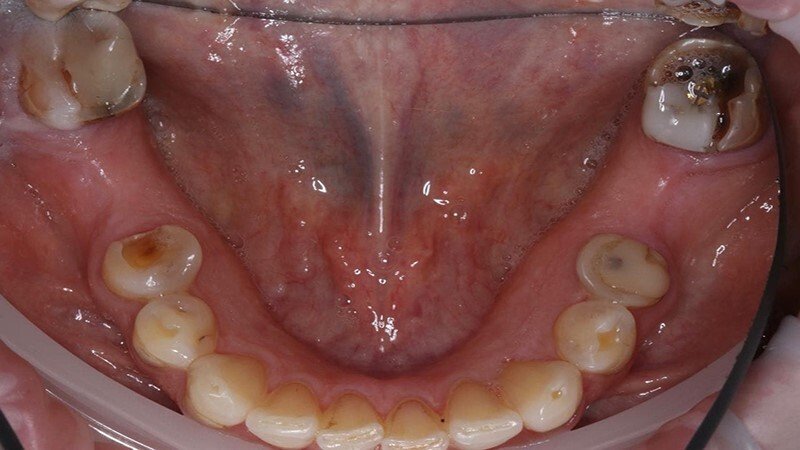LL1BC_decay: (554, 305, 639, 374)
LL2BC_decay: (574, 233, 673, 310)
LL2M_decay: (638, 39, 767, 158)
LLCI_decay: (381, 398, 446, 450)
LLC_decay: (497, 360, 583, 435)
LLLI_healthy: (447, 383, 522, 448)
LR1BC_decay: (130, 295, 219, 370)
LR2BC_decay: (90, 226, 215, 295)
LR2M_decay: (9, 6, 156, 130)
LRCI_decay: (316, 383, 382, 448)
LRC_healthy: (182, 351, 256, 430)
LRLI_healthy: (247, 381, 323, 446)
